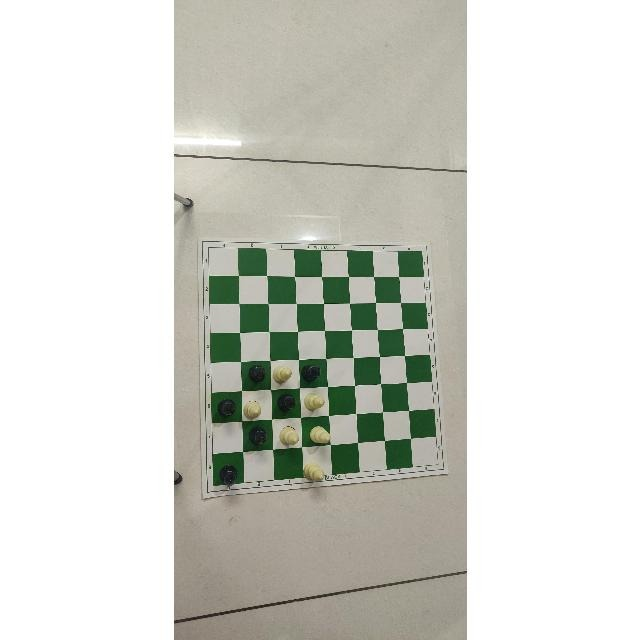black-bishop: (216, 462, 242, 490), (244, 362, 267, 388), (216, 397, 240, 421), (274, 391, 298, 415), (301, 363, 325, 386), (246, 425, 268, 447)
white-bishop: (300, 459, 328, 484), (309, 424, 337, 448), (302, 392, 327, 415), (278, 425, 301, 448), (241, 396, 264, 419), (272, 362, 294, 383)
